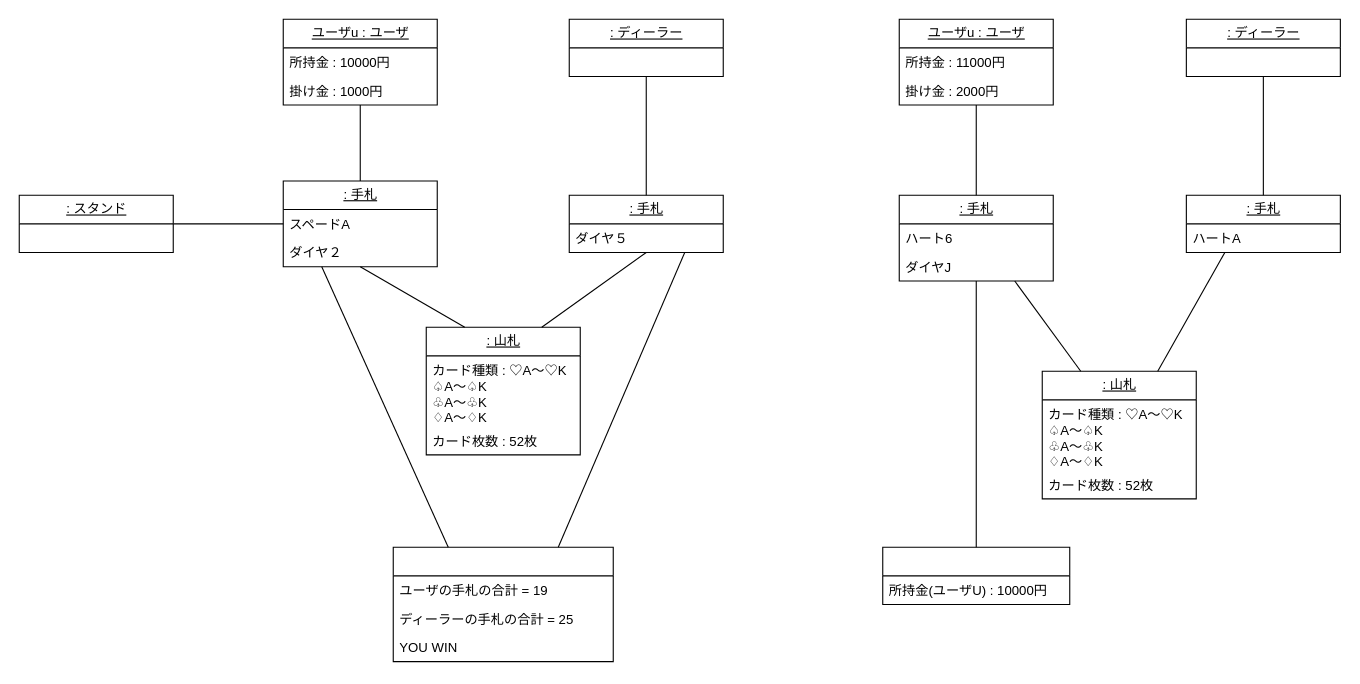
The diagram is 1360 pixels wide and 684 high, and some of its shapes have lost their labels. The box of each missing label's shape, as (x1, y1, x2, y2) in pixels:
: サレンダー: (882, 546, 1070, 604)
: 結果: (392, 546, 613, 662)
